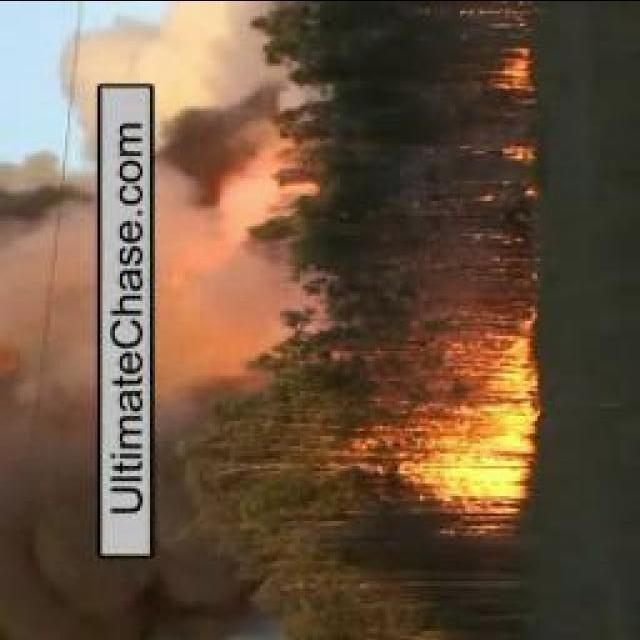Fire: (403, 314, 538, 502), (482, 44, 534, 92), (495, 144, 534, 168)
